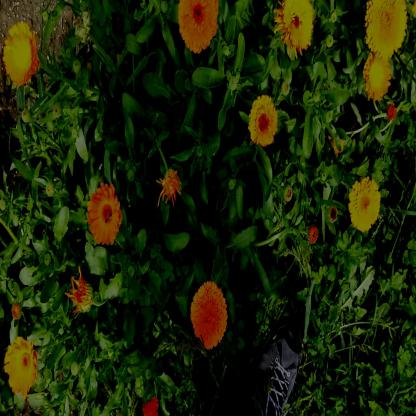marigold: (190, 284, 228, 346), (3, 23, 40, 86), (365, 0, 406, 53), (178, 0, 218, 53), (88, 183, 121, 246), (3, 339, 34, 394), (281, 0, 314, 50), (351, 180, 378, 232), (364, 50, 390, 104), (249, 96, 276, 147)
